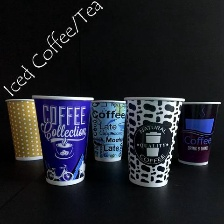paper_cup: (28, 91, 97, 189), (120, 92, 188, 190), (169, 97, 224, 169), (2, 94, 51, 164), (85, 95, 131, 165)
